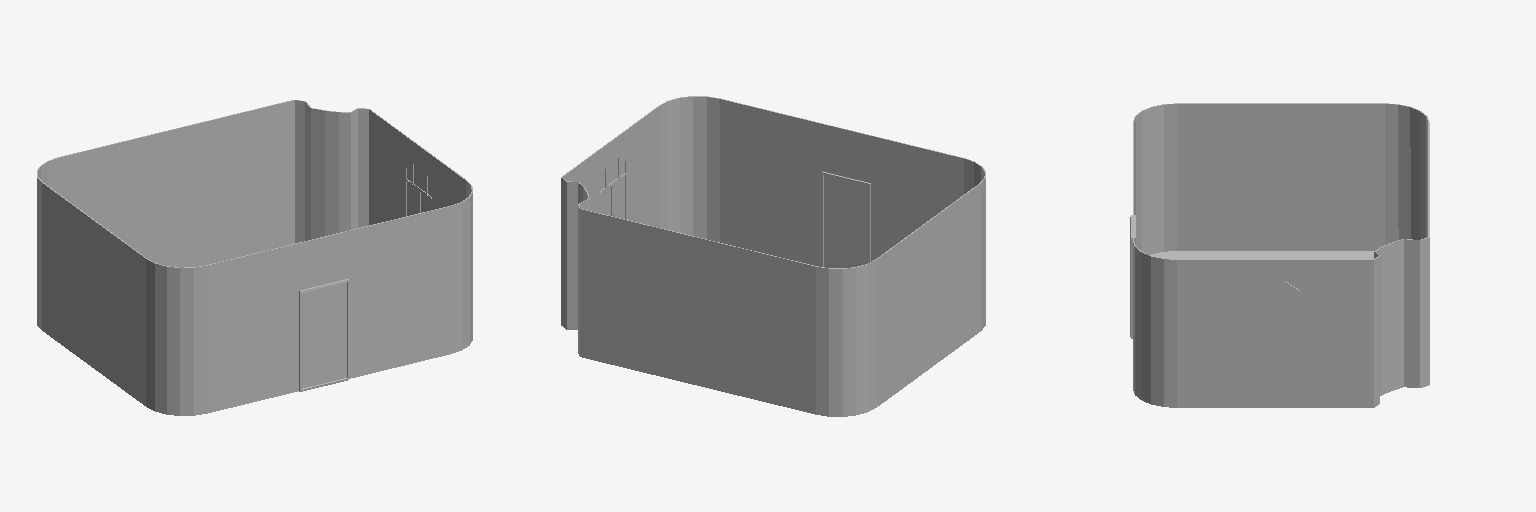
The model's file is room.obj.
3 renders of one model, left to right at view 1: azimuth 30°, elevation 25°; view 2: azimuth 150°, elevation 25°; view 3: azimuth 270°, elevation 25°, orthographic.
Parts seen in each view (by area): view 1: room; view 2: room; view 3: room, room.001.
Part boxes in pixels (left/top/right/bottom): room: left=37, top=100, right=472, bottom=415; room: left=561, top=96, right=985, bottom=416; room: left=1130, top=103, right=1429, bottom=407; room.001: left=1151, top=251, right=1373, bottom=259.
Size of the model in its own units: 502 by 220 by 403.